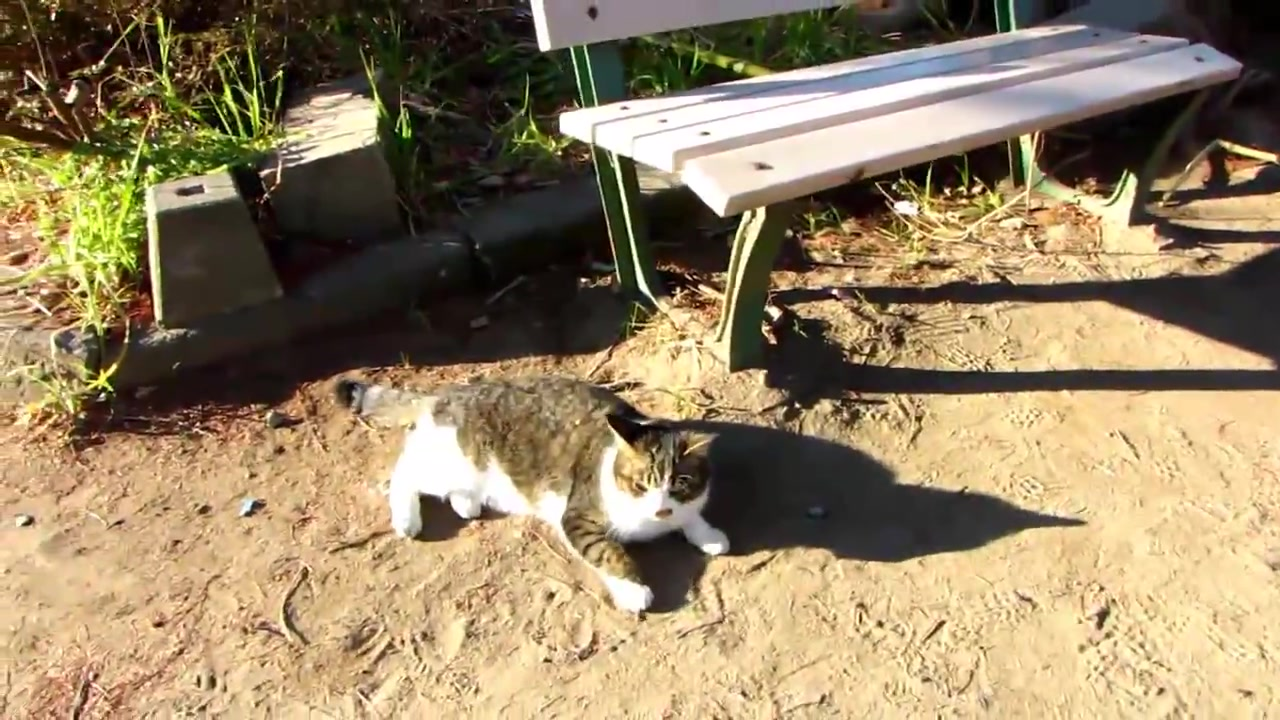cat: (358, 373, 735, 618)
